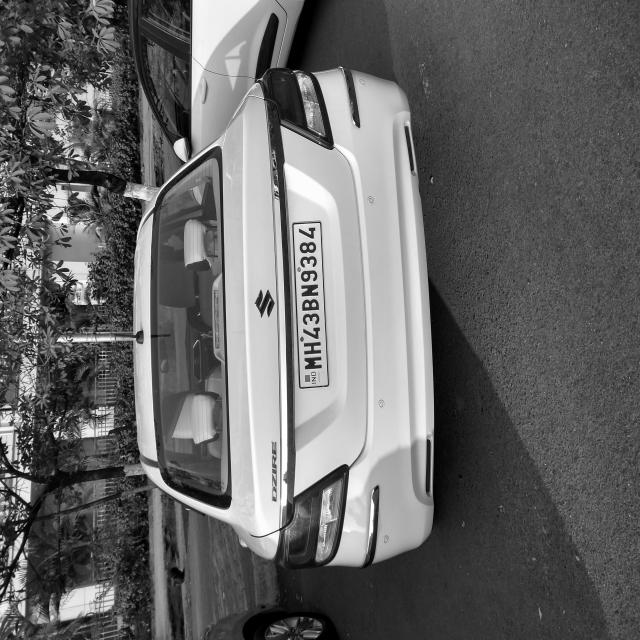car: (52, 170, 432, 593)
license-plate: (190, 388, 316, 441)
